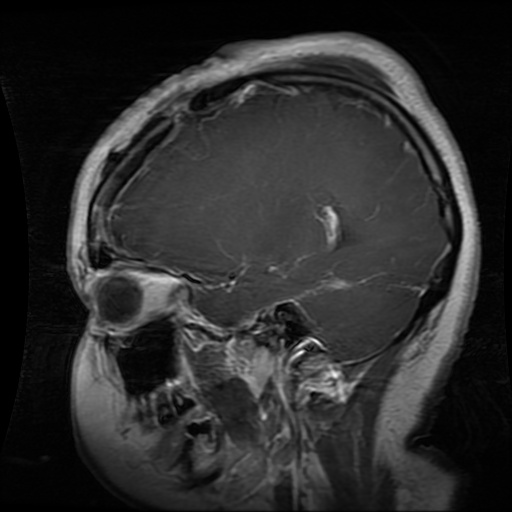glioma: (315, 204, 343, 252)
